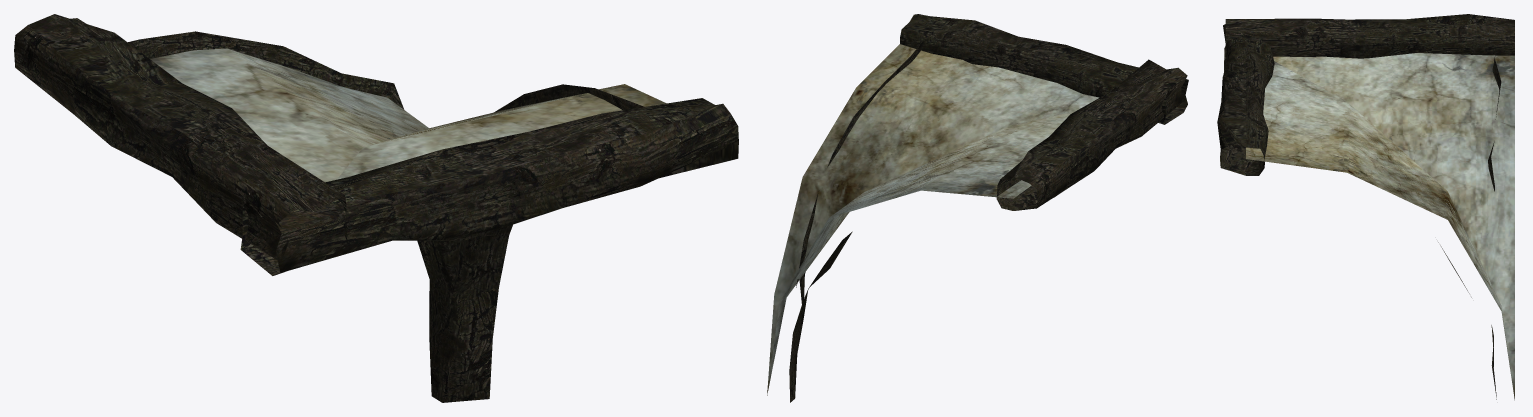
Rendered from corner_convex_short.dae.
The picture shows the model from 3 angles, left to right: view 1: azimuth 30°, elevation 25°; view 2: azimuth 150°, elevation 25°; view 3: azimuth 270°, elevation 25°; orthographic projection. The views are drawn at different scales.
Parts seen in each view (by area): view 1: polySurface76, polySurface44; view 2: polySurface44, polySurface76; view 3: polySurface44, polySurface76.
Part boxes in pixels (bbox=[...]): polySurface76: bbox=[14, 14, 738, 402]; polySurface44: bbox=[150, 48, 666, 182]; polySurface44: bbox=[767, 44, 1099, 395]; polySurface76: bbox=[789, 14, 1188, 402]; polySurface44: bbox=[1246, 53, 1514, 400]; polySurface76: bbox=[1217, 14, 1514, 399].
Bounding box in the file's own units: 2.2 × 2.21 × 2.24.
